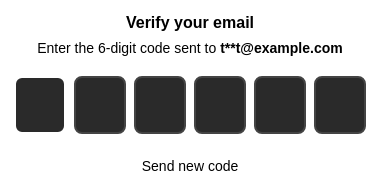
Test: EmailVerification › disables resend button and shows cooldown after resend
Click the button "Send new code" at (190, 166), box [134, 154, 246, 178]
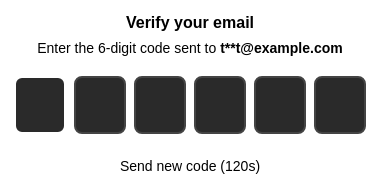
expect the button "Send new code (120s)" is shown: met, box [112, 154, 268, 178]
